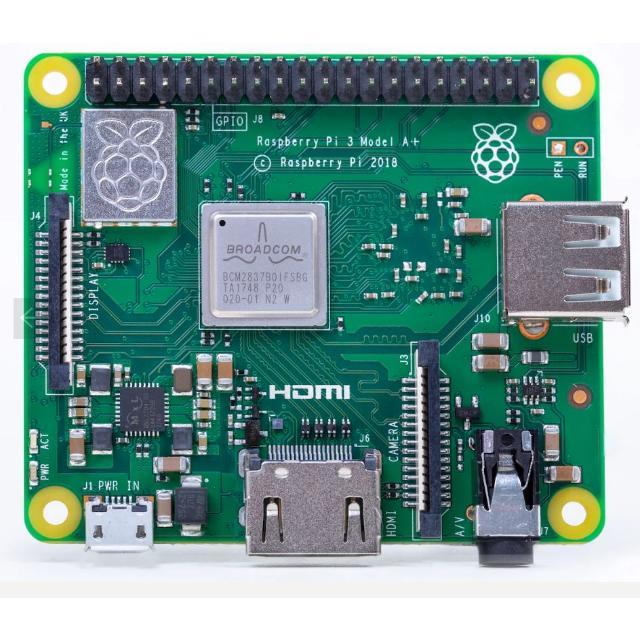Raspberry-Pi-3-A-: (25, 55, 630, 567)
